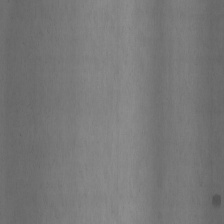oil_spot: (211, 193, 221, 212)
